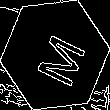M_NW: (25, 23, 85, 87)
